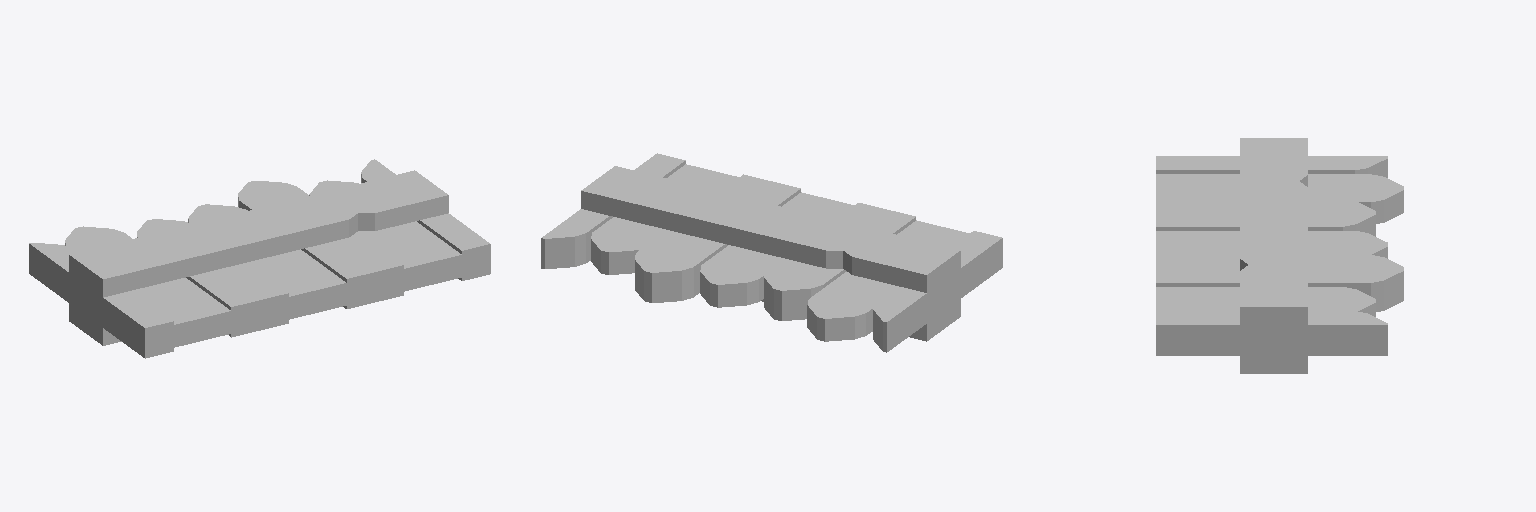
The picture shows the model from 3 angles: view 1: azimuth 30°, elevation 25°; view 2: azimuth 150°, elevation 25°; view 3: azimuth 270°, elevation 25°; orthographic projection.
Parts seen in each view (by area): view 1: fence; view 2: fence; view 3: fence.
Boxes of the visible parts, x1=… form: fence: x1=29, y1=159, x2=490, y2=358; fence: x1=541, y1=153, x2=1002, y2=352; fence: x1=1156, y1=138, x2=1403, y2=373.
Bounding box in the file's own units: 100 × 18.4 × 62.01.